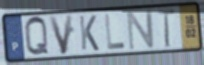K: (77, 14, 100, 52)
L: (103, 13, 127, 52)
N: (125, 8, 156, 52)
Q: (23, 15, 51, 58)
T: (156, 7, 176, 50)
V: (47, 13, 75, 56)
